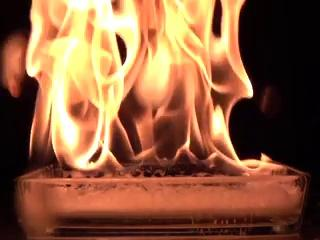Fire: (13, 1, 287, 181)
